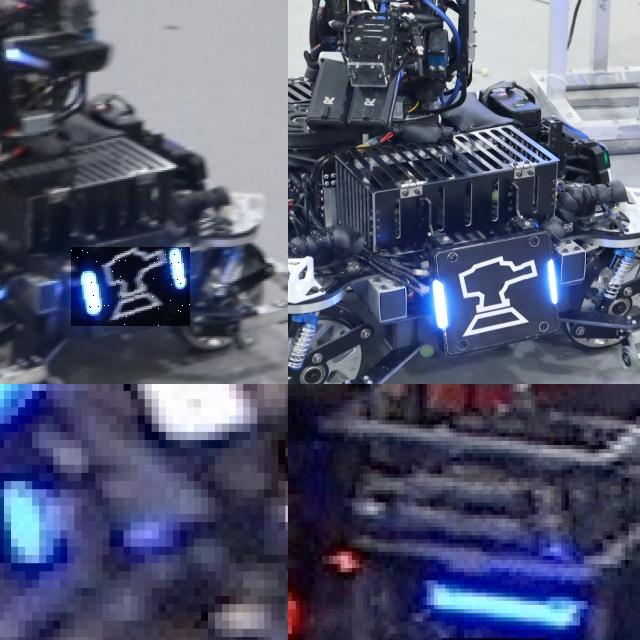Bs: (433, 250, 561, 342), (71, 247, 190, 326)
